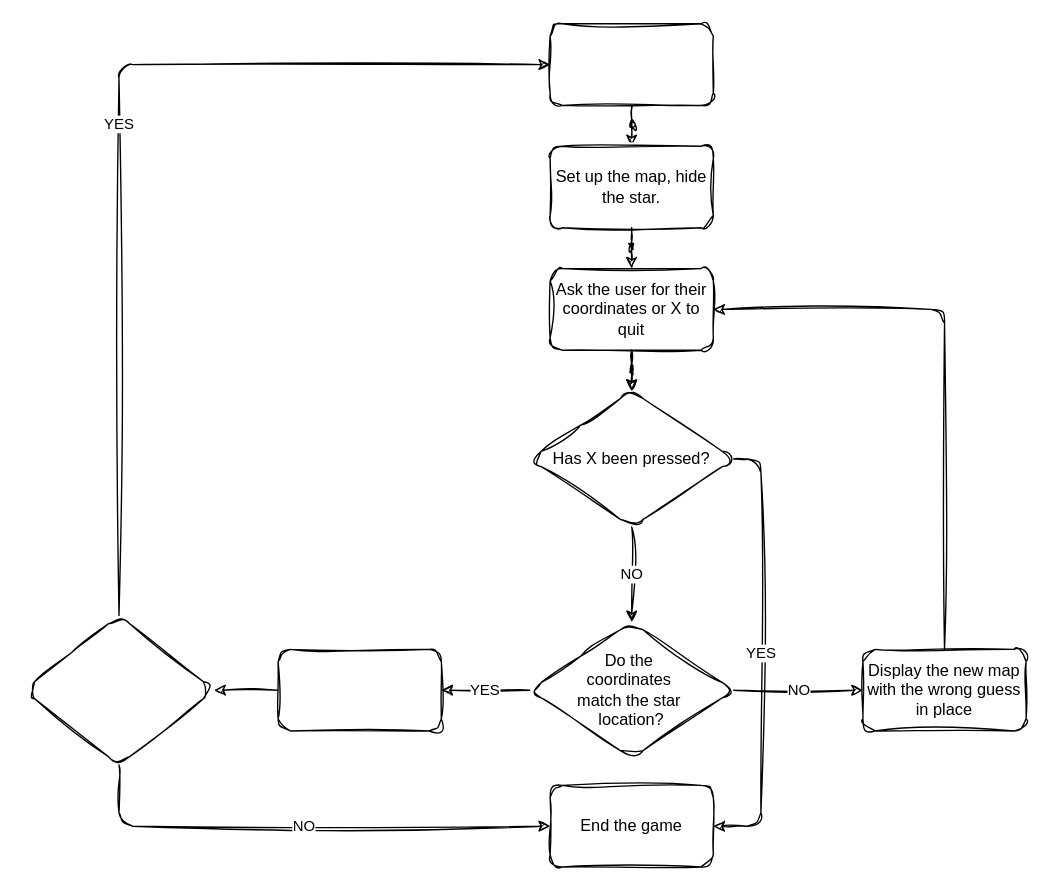
Image size: 1050x891. Some labels were removed from this diagram. Here are the shapes that lost their labels. From the top down, the box of each, then its label:
(549, 22, 713, 105): Start the game
(22, 614, 214, 765): Does the user want to play again?
(277, 648, 441, 731): Display the map with the star revealed
